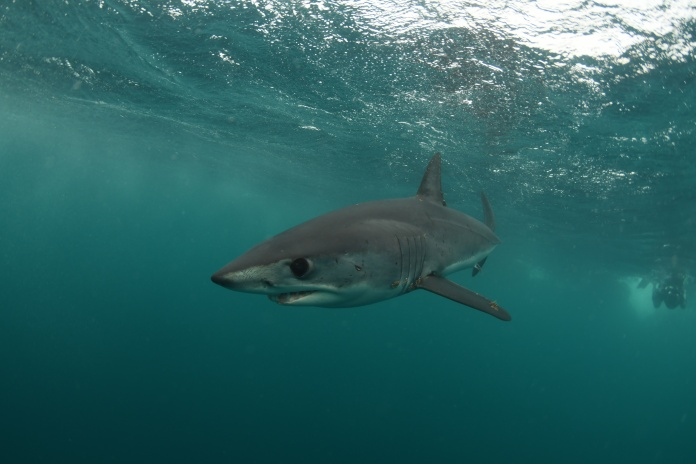Mako: (205, 153, 520, 325)
